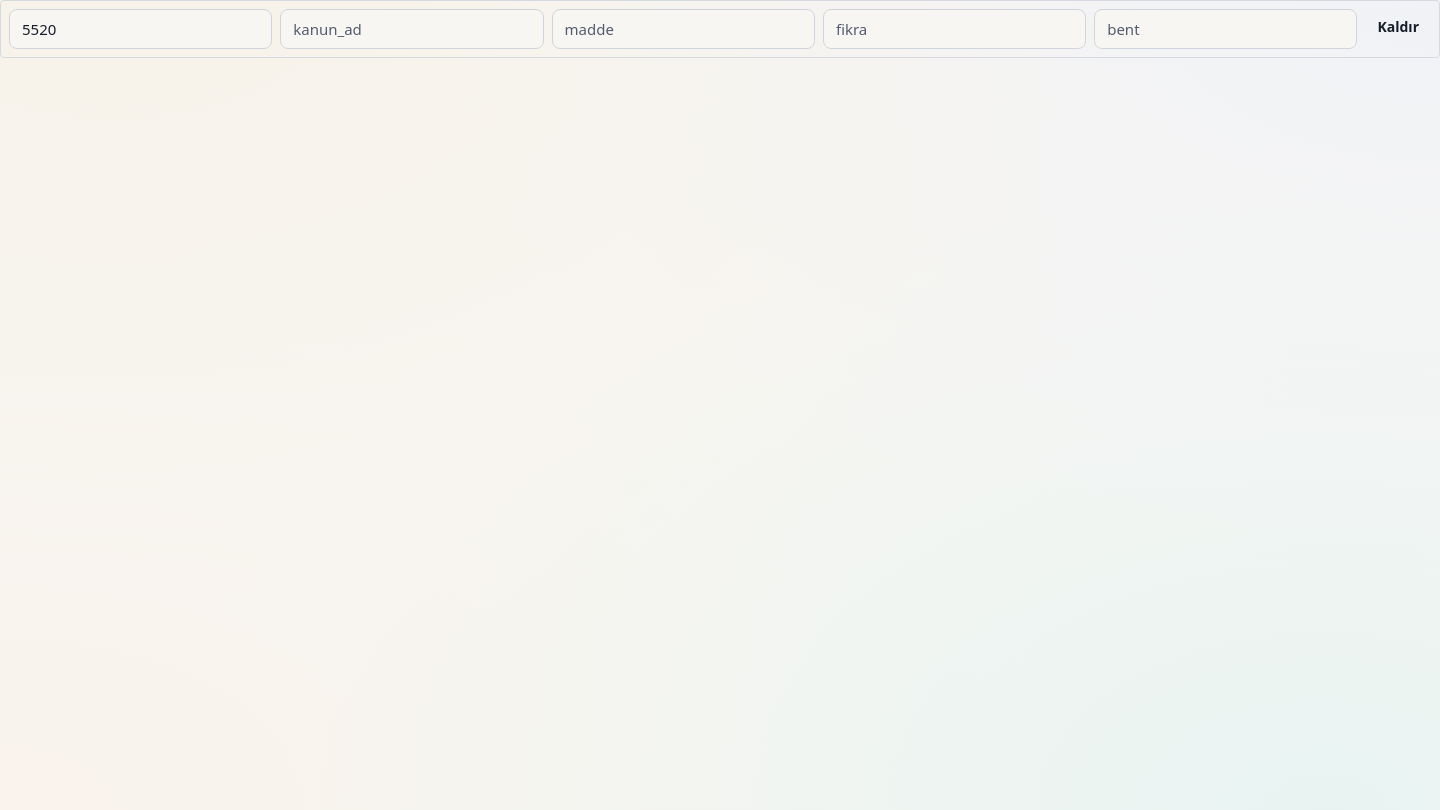
Test case: ConceptRowEditor › shows a bent cleanup warning and normalizes bent on blur
Type "(A)" into the field labelled "bent" at (1226, 29), box [1094, 9, 1358, 49]
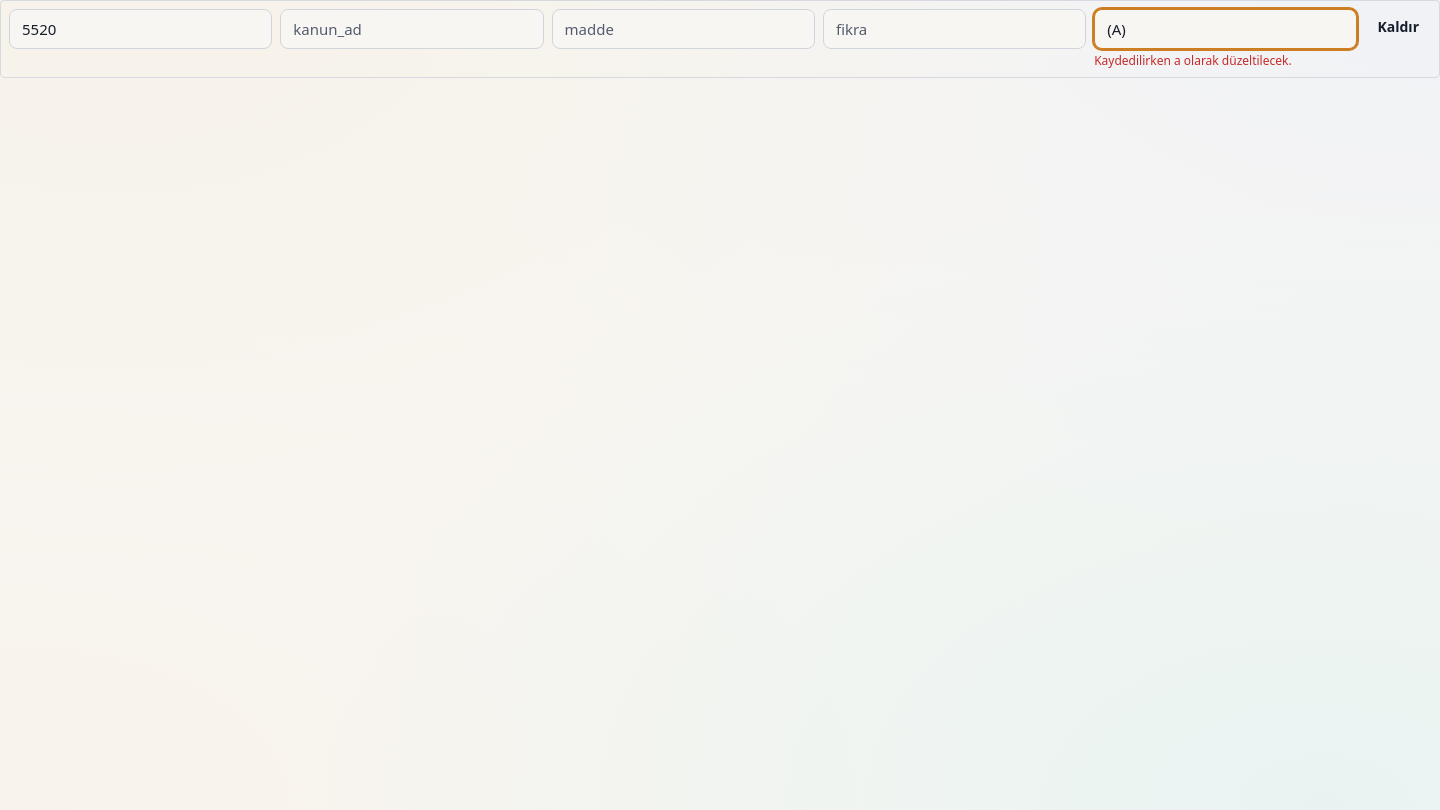
Expected: the text "Kaydedilirken a olarak düzeltilecek." is shown, [1094, 52, 1292, 69]
Leave the field named "bent", box [1094, 9, 1358, 49]
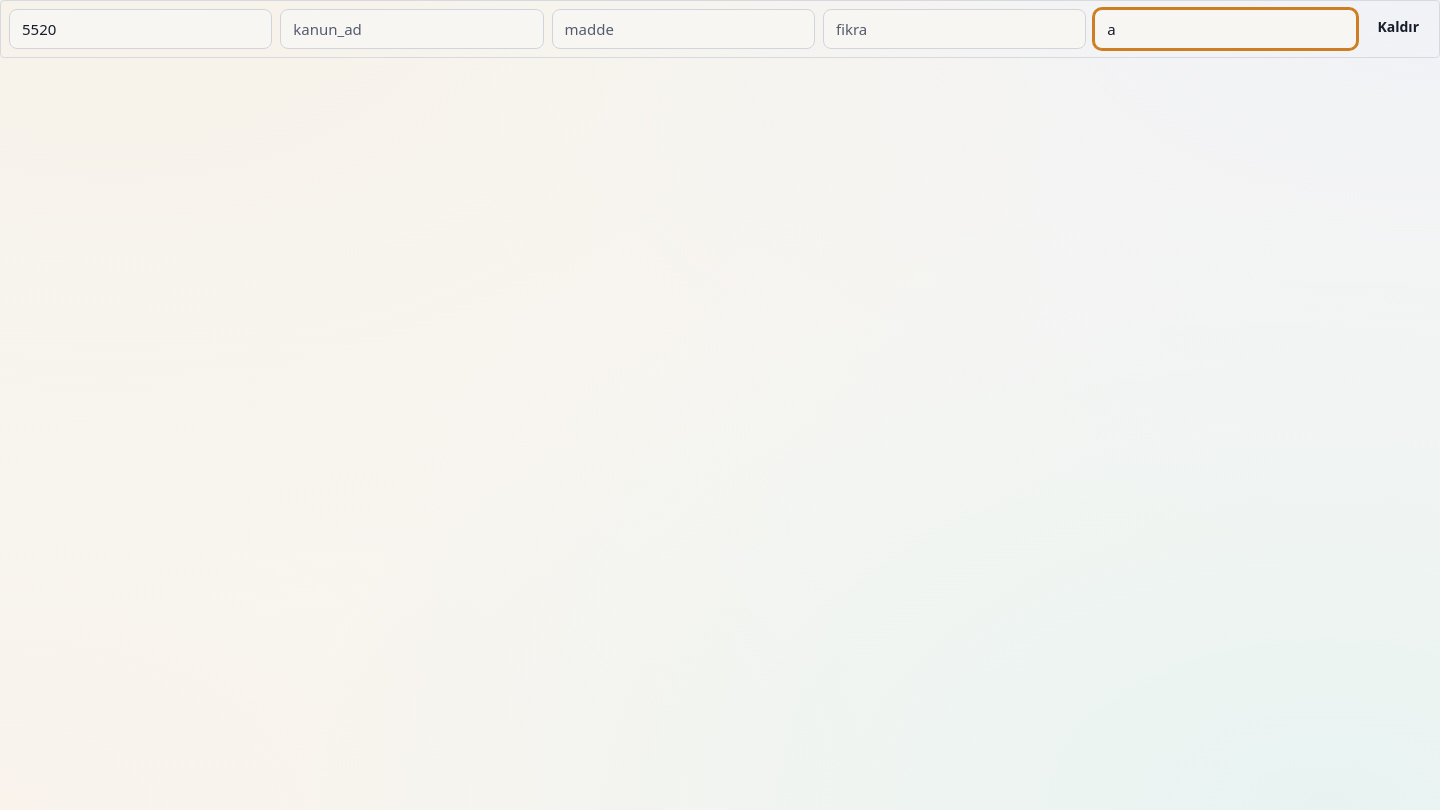
Expected: the field named "bent" holds "a", [1094, 9, 1358, 49]
